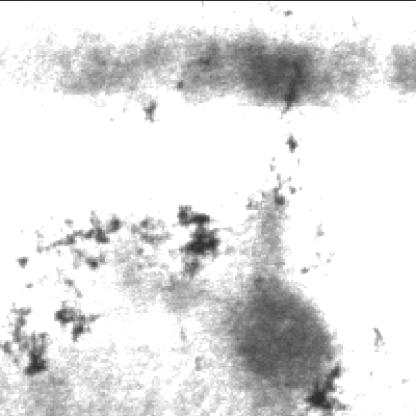patches: (163, 26, 346, 112), (221, 264, 330, 387)
